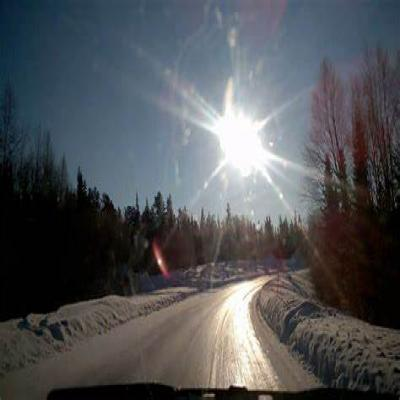iced-road: (0, 275, 321, 400)
